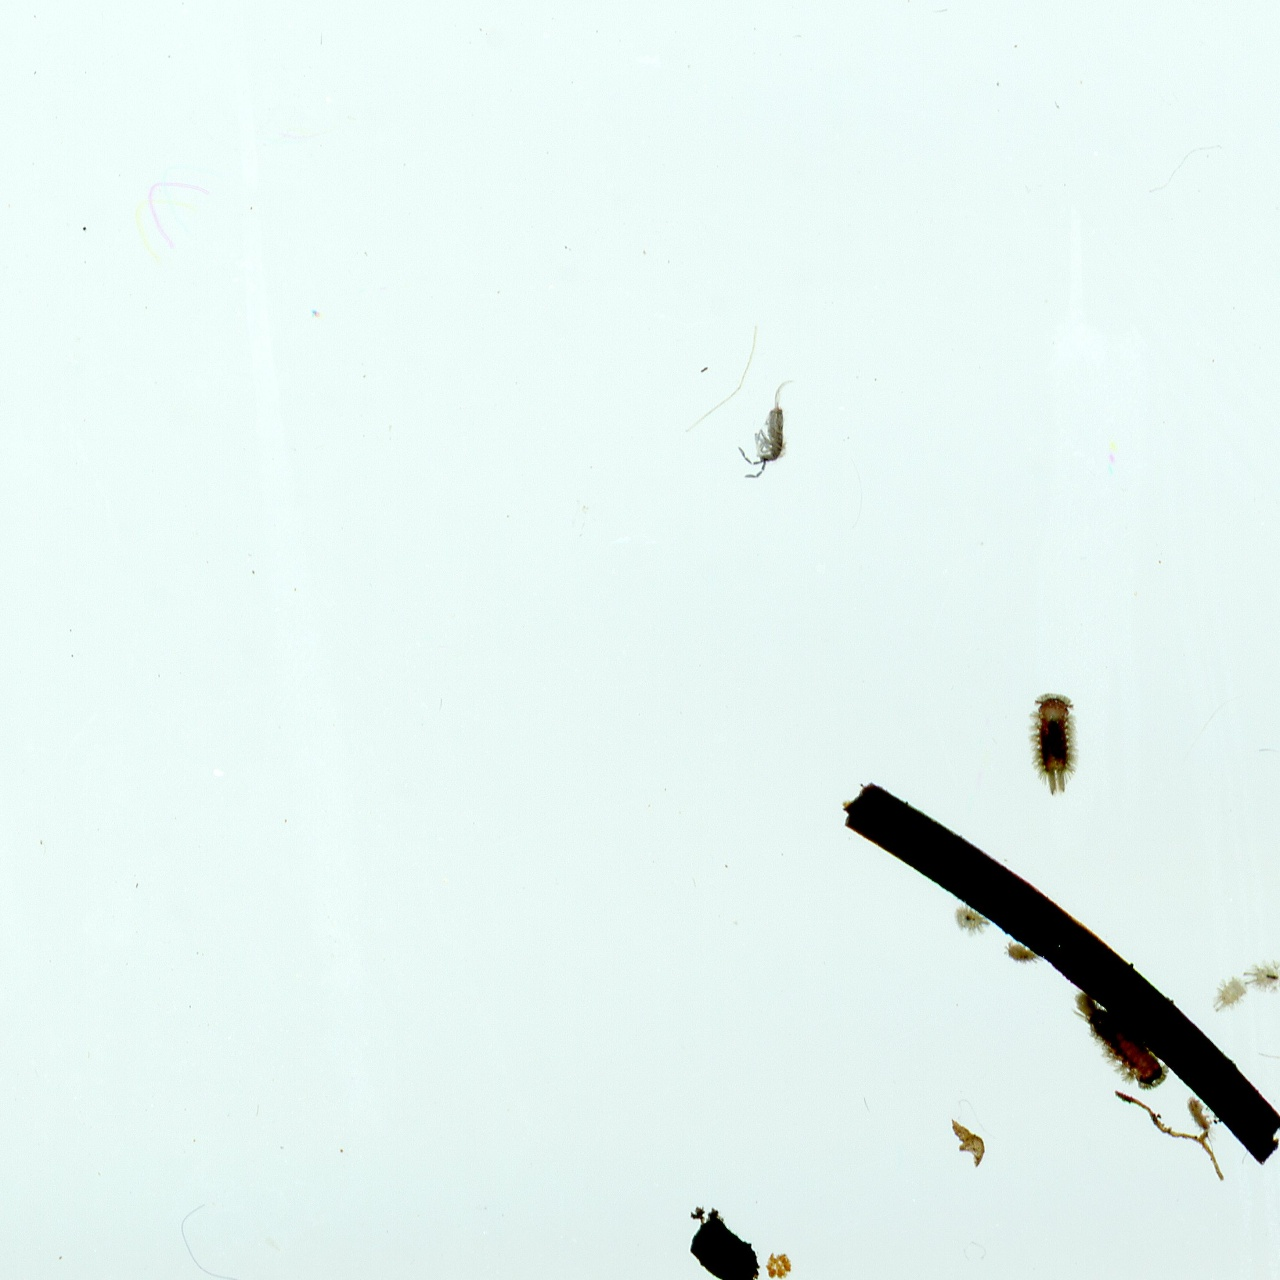arthropod: (1069, 985, 1170, 1090), (1028, 686, 1082, 797), (738, 377, 791, 483), (1206, 976, 1246, 1012), (1183, 1091, 1212, 1138), (1005, 938, 1042, 969), (1247, 958, 1280, 993), (955, 903, 987, 934)
